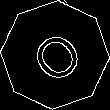O_SE: (22, 22, 88, 88)
